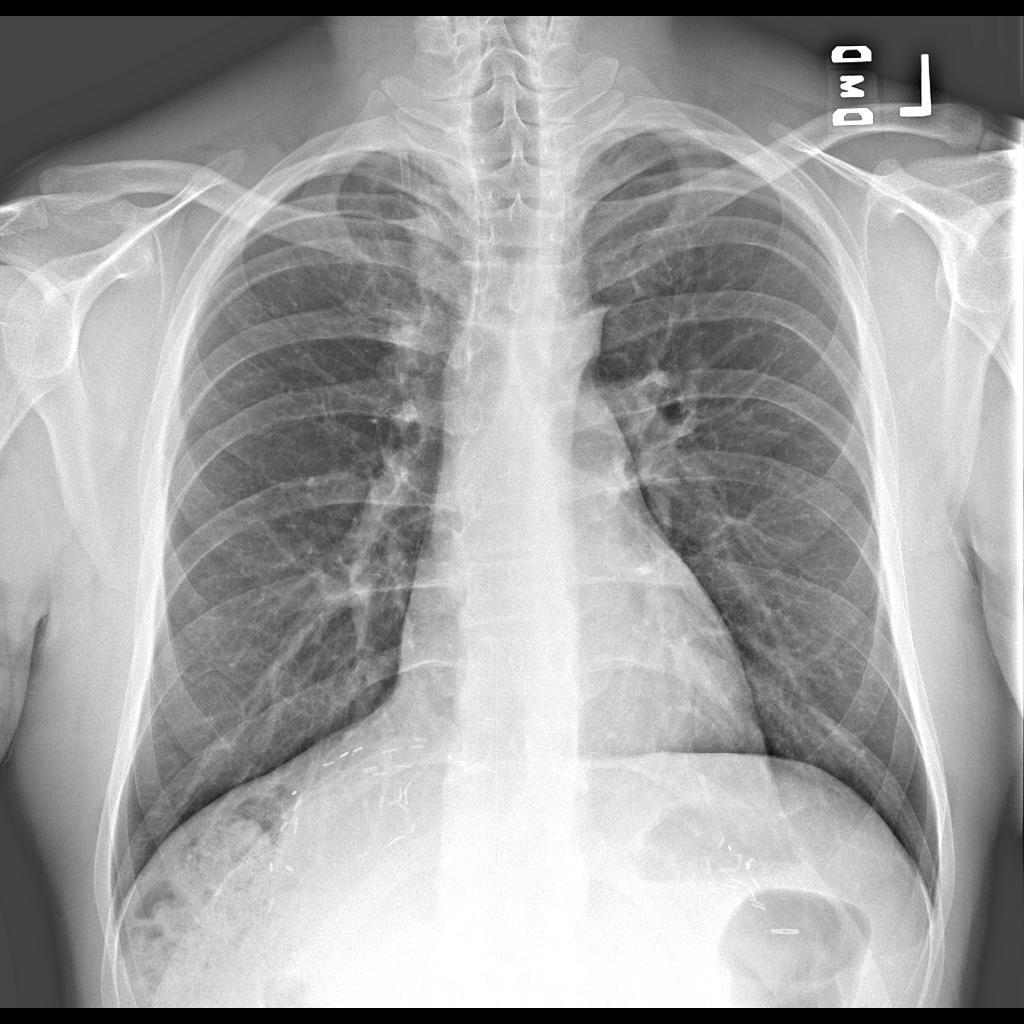Nodule: (362, 318, 451, 389)
